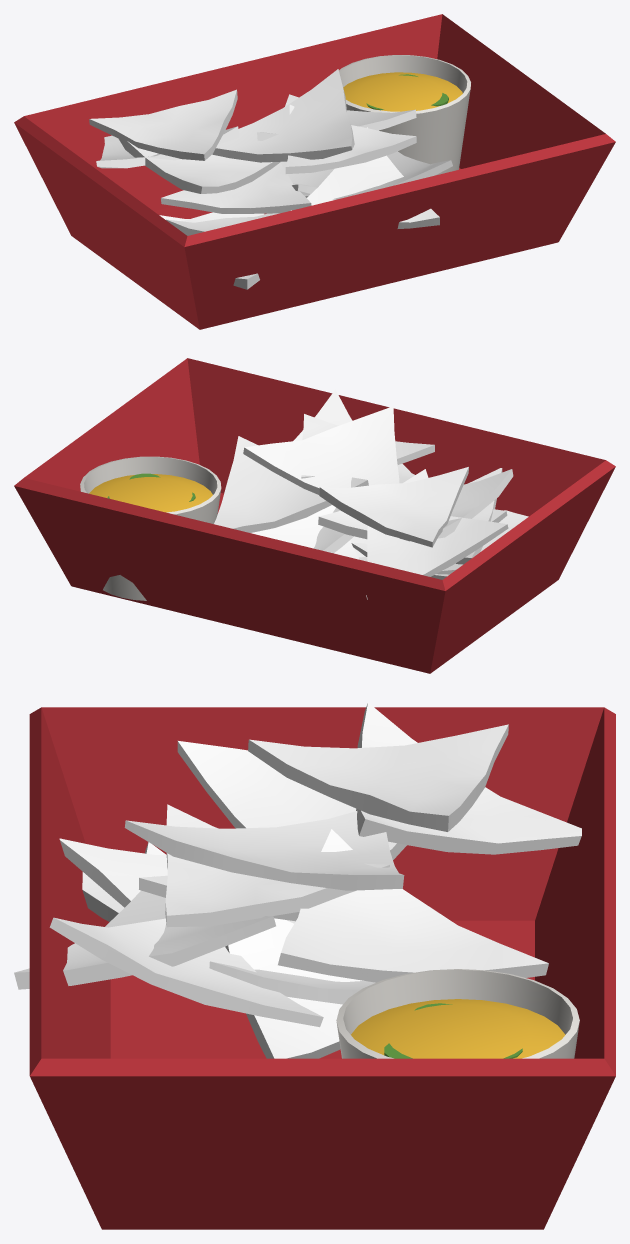
File: food_nachos.glb
3 renders of one model, top to bottom at view 1: azimuth 30°, elevation 25°; view 2: azimuth 150°, elevation 25°; view 3: azimuth 270°, elevation 25°, orthographic. The views are drawn at different scales.
Visible parts, largest first — view 1: Boat_LOD0, Chip_LOD0.009, Cup_LOD0, Chip_LOD0.004, Chip_LOD0.012, Chip_LOD0.003, Cheese_LOD0, Chip_LOD0.007, Chip_LOD0.014, Chip_LOD0.013, Chip_LOD0.002, Chip_LOD0.008 (+2 smaller); view 2: Boat_LOD0, Chip_LOD0.009, Chip_LOD0.004, Chip_LOD0.008, Chip_LOD0.013, Cup_LOD0, Cheese_LOD0, Chip_LOD0.003, Chip_LOD0.011, Chip_LOD0.014, Chip_LOD0.012, Chip_LOD0.002 (+2 smaller); view 3: Boat_LOD0, Chip_LOD0.008, Chip_LOD0.004, Chip_LOD0.009, Cheese_LOD0, Chip_LOD0.002, Cup_LOD0, Chip_LOD0.013, Chip_LOD0.014, Chip_LOD0.003, Chip_LOD0.007, Chip_LOD0.006 (+3 smaller).
Boxes of the visible parts, left/top/right/bottom form: Boat_LOD0: left=14, top=14, right=615, bottom=329; Chip_LOD0.009: left=212, top=69, right=354, bottom=162; Cup_LOD0: left=339, top=55, right=470, bottom=175; Chip_LOD0.004: left=89, top=89, right=237, bottom=160; Chip_LOD0.012: left=161, top=162, right=311, bottom=213; Chip_LOD0.003: left=119, top=139, right=280, bottom=193; Cheese_LOD0: left=343, top=72, right=462, bottom=111; Chip_LOD0.007: left=291, top=127, right=439, bottom=228; Chip_LOD0.014: left=285, top=104, right=416, bottom=173; Chip_LOD0.013: left=96, top=126, right=239, bottom=168; Chip_LOD0.002: left=333, top=151, right=452, bottom=199; Chip_LOD0.008: left=257, top=94, right=416, bottom=140; Boat_LOD0: left=14, top=358, right=615, bottom=673; Chip_LOD0.009: left=243, top=406, right=399, bottom=495; Chip_LOD0.004: left=319, top=467, right=468, bottom=547; Chip_LOD0.008: left=214, top=436, right=368, bottom=532; Chip_LOD0.013: left=366, top=516, right=508, bottom=599; Cup_LOD0: left=80, top=456, right=221, bottom=600; Cheese_LOD0: left=89, top=474, right=212, bottom=512; Chip_LOD0.003: left=400, top=469, right=513, bottom=541; Chip_LOD0.011: left=251, top=505, right=359, bottom=559; Chip_LOD0.014: left=301, top=414, right=434, bottom=478; Chip_LOD0.012: left=318, top=469, right=428, bottom=539; Chip_LOD0.002: left=293, top=389, right=352, bottom=441; Boat_LOD0: left=29, top=707, right=615, bottom=1229; Chip_LOD0.008: left=278, top=829, right=548, bottom=982; Chip_LOD0.004: left=248, top=724, right=508, bottom=831; Chip_LOD0.009: left=124, top=811, right=404, bottom=890; Cheese_LOD0: left=351, top=999, right=565, bottom=1058; Chip_LOD0.002: left=49, top=917, right=323, bottom=1027; Cup_LOD0: left=336, top=969, right=579, bottom=1058; Chip_LOD0.013: left=356, top=702, right=581, bottom=854; Chip_LOD0.014: left=165, top=804, right=389, bottom=927; Chip_LOD0.003: left=177, top=741, right=406, bottom=859; Chip_LOD0.007: left=14, top=876, right=275, bottom=989; Chip_LOD0.006: left=225, top=918, right=363, bottom=1058.
Size of the model in its own units: 0.19 by 0.0596 by 0.1335.
